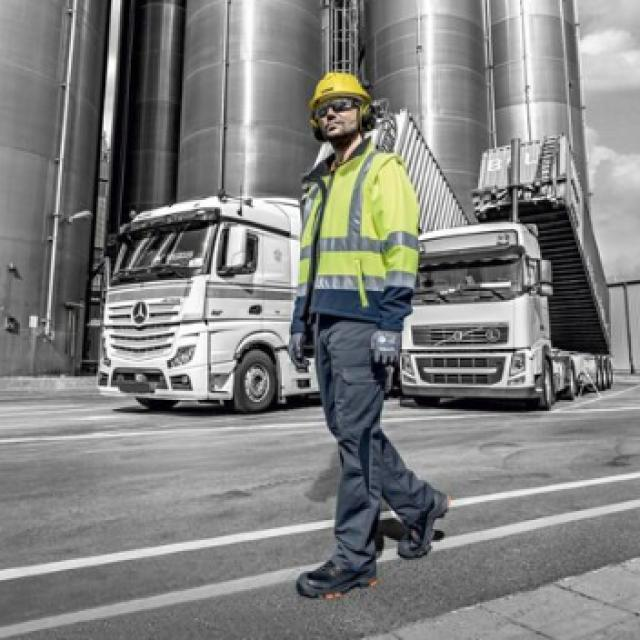boots: (293, 487, 451, 604)
helmet: (303, 64, 380, 151)
vest: (287, 145, 423, 327)
